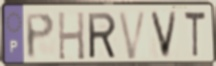H: (57, 10, 86, 62)
P: (24, 11, 57, 62)
R: (86, 11, 118, 61)
T: (183, 9, 207, 60)
V: (117, 9, 149, 62), (148, 9, 180, 60)
